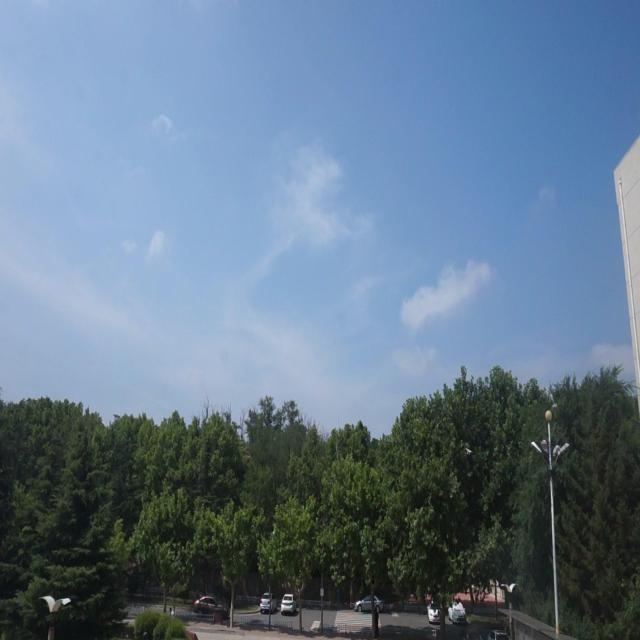drone: (464, 444, 472, 456)
